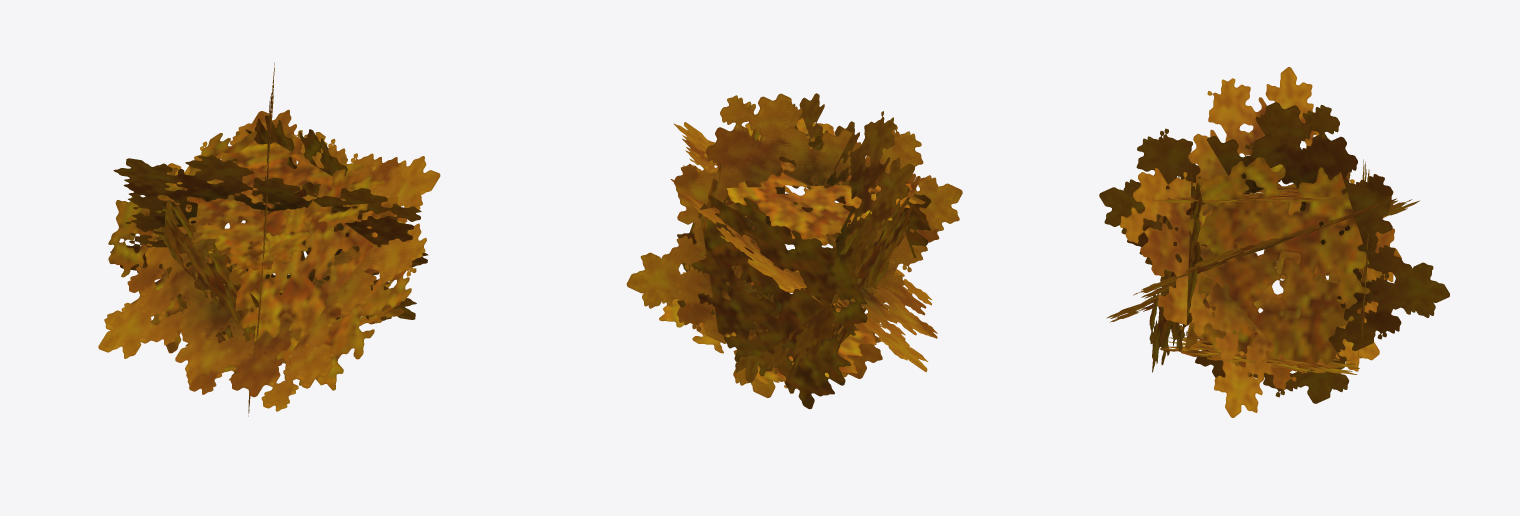
Rendered from maple_leaves_yellowish_5.obj.
3 renders of one model, left to right at view 1: azimuth 30°, elevation 25°; view 2: azimuth 150°, elevation 25°; view 3: azimuth 270°, elevation 25°, orthographic. The views are drawn at different scales.
Parts seen in each view (by area): view 1: east, west, bottom, north, top, south; view 2: south, top, west, east, north, bottom; view 3: west, south, east, bottom, north.
Part boxes in pixels (bbox=[...]): east: bbox=[98, 109, 440, 411]; west: bbox=[110, 115, 427, 320]; bottom: bbox=[229, 169, 416, 390]; north: bbox=[175, 128, 384, 278]; top: bbox=[108, 131, 272, 353]; south: bbox=[185, 62, 404, 416]; south: bbox=[626, 93, 962, 397]; top: bbox=[677, 196, 867, 409]; west: bbox=[698, 93, 914, 382]; east: bbox=[670, 122, 937, 383]; north: bbox=[703, 117, 925, 245]; bottom: bbox=[726, 125, 930, 265]; west: bbox=[1120, 67, 1401, 417]; south: bbox=[1099, 102, 1449, 403]; east: bbox=[1106, 164, 1419, 365]; bottom: bbox=[1149, 168, 1202, 372]; north: bbox=[1153, 185, 1348, 203].
Bounding box in the file's own units: 2.27 × 2.25 × 1.98.
